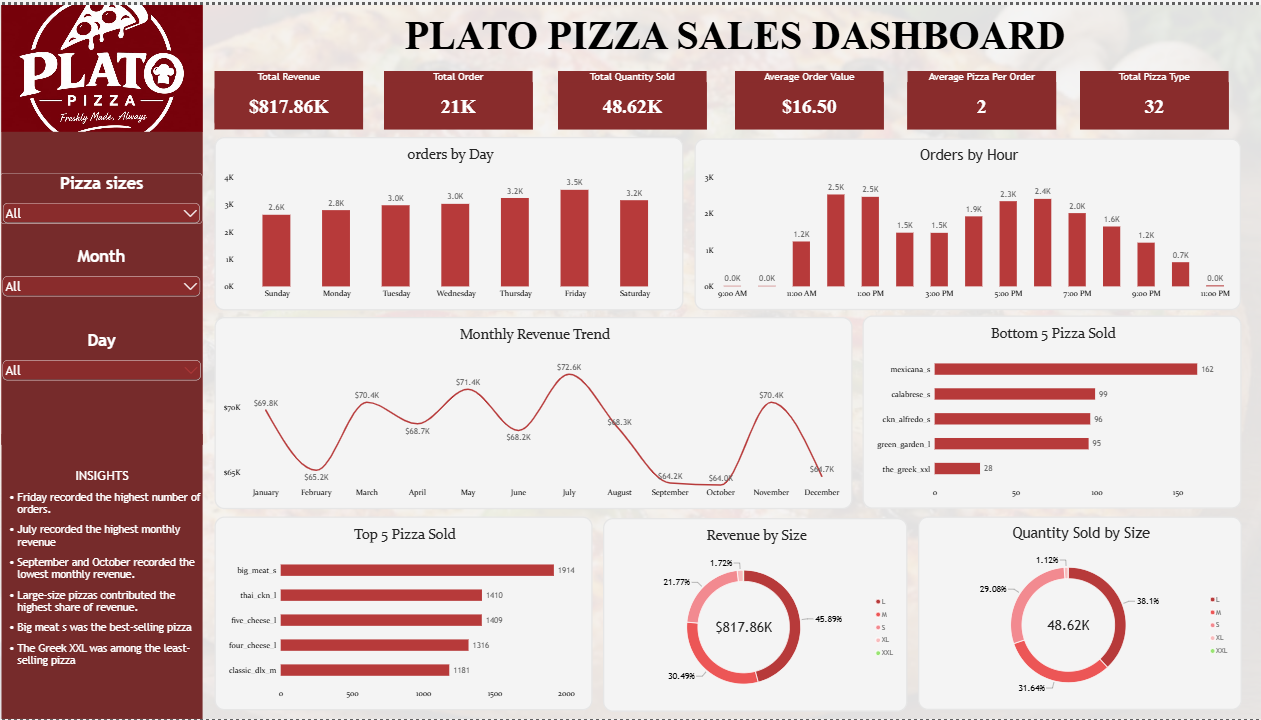

This screenshot's page, from the dashboard's own definition file:
{"tool":"powerbi","page":{"name":"Page 1","canvas":[2560,1440],"ordinal":0},"visuals":[{"type":"shape","box":[3,0,405.8,887.3],"z":0},{"type":"cardVisual","title":"Total Order","fields":{"Data":["orders.Total Order"]},"box":[774,132.8,300,118.2],"z":1000},{"type":"clusteredColumnChart","title":"orders by Day","fields":{"Category":["orders.Day"],"Y":["CountNonNull(orders.order_id)"]},"box":[433.3,266.7,946.7,350],"z":4000},{"type":"clusteredColumnChart","title":"Orders by Hour","fields":{"Category":["orders.Hour"],"Y":["CountNonNull(orders.order_id)"]},"box":[1403.1,268.8,1103.1,346.9],"z":5000},{"type":"cardVisual","title":"Total Revenue","fields":{"Data":["order_details.Total Revenue"]},"box":[434.1,134.1,300,118.2],"z":6000},{"type":"clusteredBarChart","title":"Bottom 5 Pizza Sold","fields":{"Category":["pizzas.pizza_id"],"Y":["Sum(order_details.quantity)"]},"box":[1742.5,627.5,765,390],"z":8000},{"type":"clusteredBarChart","title":"Top 5 Pizza Sold","fields":{"Category":["pizzas.pizza_id"],"Y":["Sum(order_details.quantity)"]},"box":[432.6,1033.9,763.5,391.3],"z":9000},{"type":"lineChart","title":"Monthly Revenue Trend","fields":{"Category":["orders.Month"],"Y":["order_details.Total Revenue"]},"box":[432.4,629.4,1288.2,388.2],"z":10000},{"type":"donutChart","title":"Revenue by Size","fields":{"Category":["pizzas.size"],"Y":["order_details.Total Revenue"]},"box":[1217.6,1035.3,614.7,391.2],"z":12000},{"type":"slicer","title":"Day","fields":{"Values":["orders.Day"]},"box":[0,655.9,410,130],"z":13000},{"type":"slicer","title":"Month","fields":{"Values":["orders.Month"]},"box":[0,488.2,408.8,126.5],"z":14000},{"type":"textbox","box":[408.8,0,2150,129.4],"z":15000},{"type":"slicer","title":"Pizza sizes","fields":{"Values":["pizzas.size"]},"box":[0,338.2,408.8,102.9],"z":16000},{"type":"donutChart","title":"Quantity Sold by Size ","fields":{"Category":["pizzas.size"],"Y":["CountNonNull(order_details.quantity)"]},"box":[1853.7,1033.3,653.7,390.7],"z":17000},{"type":"textbox","box":[3,866.1,405.8,575.4],"z":18000},{"type":"image","box":[2.9,0,405.9,255.9],"z":19000},{"type":"cardVisual","title":"Total Quantity Sold","fields":{"Data":["CountNonNull(order_details.quantity)"]},"box":[1127,132.8,300,118.2],"z":19001},{"type":"cardVisual","title":"Average Order Value","fields":{"Data":["order_details.Average Order Value"]},"box":[1483.2,132.8,300,118.2],"z":19002},{"type":"cardVisual","title":"Average Pizza Per Order","fields":{"Data":["order_details.Average Pizza Per Order"]},"box":[1833,132.8,300,118.2],"z":19003},{"type":"cardVisual","title":"Total Pizza Type","fields":{"Data":["CountNonNull(pizza_types.pizza_type_id)"]},"box":[2179.5,132.8,300,118.2],"z":19004}]}

Visuals, with their boxes in screenshot pixels (x1, y1, x2, y2), scaled from the page's 2560x1440 canvas onto the 1261x720 screenshot:
shape: locate(1, 0, 201, 444)
"Total Order" cardVisual: locate(381, 66, 529, 126)
"orders by Day" clusteredColumnChart: locate(213, 133, 680, 308)
"Orders by Hour" clusteredColumnChart: locate(691, 134, 1234, 308)
"Total Revenue" cardVisual: locate(214, 67, 362, 126)
"Bottom 5 Pizza Sold" clusteredBarChart: locate(858, 314, 1235, 509)
"Top 5 Pizza Sold" clusteredBarChart: locate(213, 517, 589, 713)
"Monthly Revenue Trend" lineChart: locate(213, 315, 848, 509)
"Revenue by Size" donutChart: locate(600, 518, 903, 713)
"Day" slicer: locate(0, 328, 202, 393)
"Month" slicer: locate(0, 244, 201, 307)
textbox: locate(201, 0, 1260, 65)
"Pizza sizes" slicer: locate(0, 169, 201, 221)
"Quantity Sold by Size " donutChart: locate(913, 517, 1235, 712)
textbox: locate(1, 433, 201, 719)
image: locate(1, 0, 201, 128)
"Total Quantity Sold" cardVisual: locate(555, 66, 703, 126)
"Average Order Value" cardVisual: locate(731, 66, 878, 126)
"Average Pizza Per Order" cardVisual: locate(903, 66, 1051, 126)
"Total Pizza Type" cardVisual: locate(1074, 66, 1221, 126)
